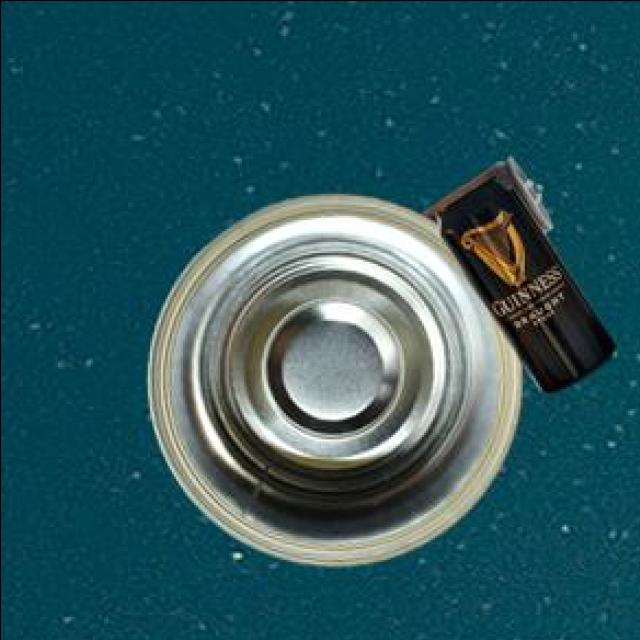logam: (150, 196, 525, 569), (437, 176, 617, 396), (424, 161, 553, 236)
